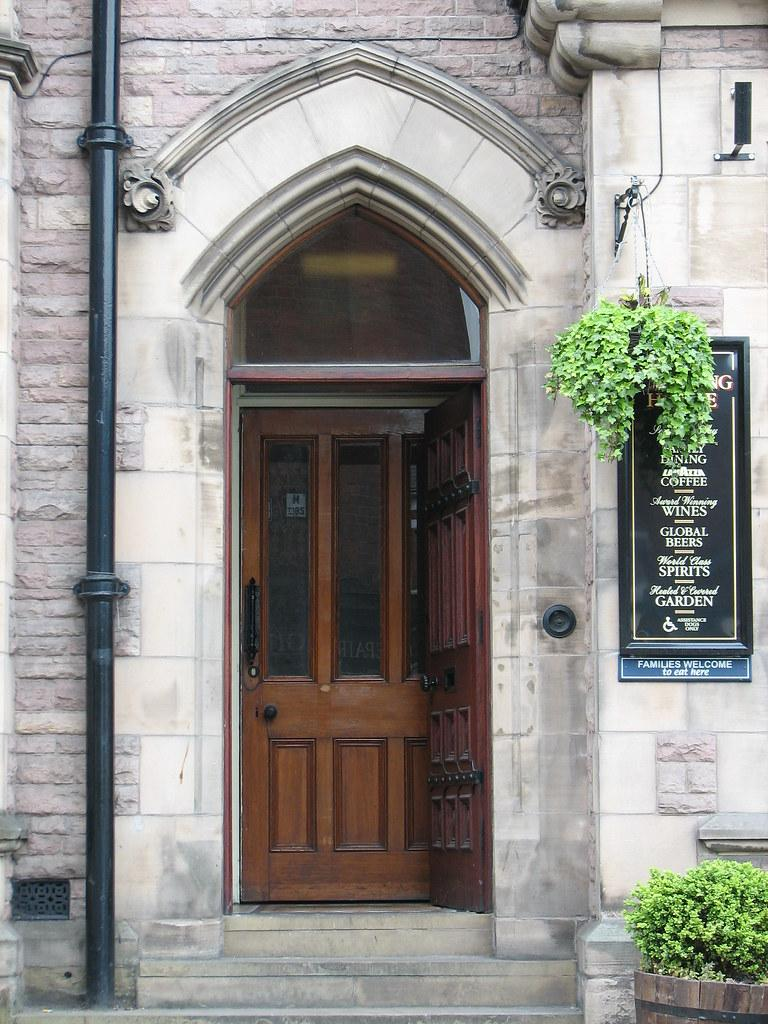door: (238, 402, 434, 905)
